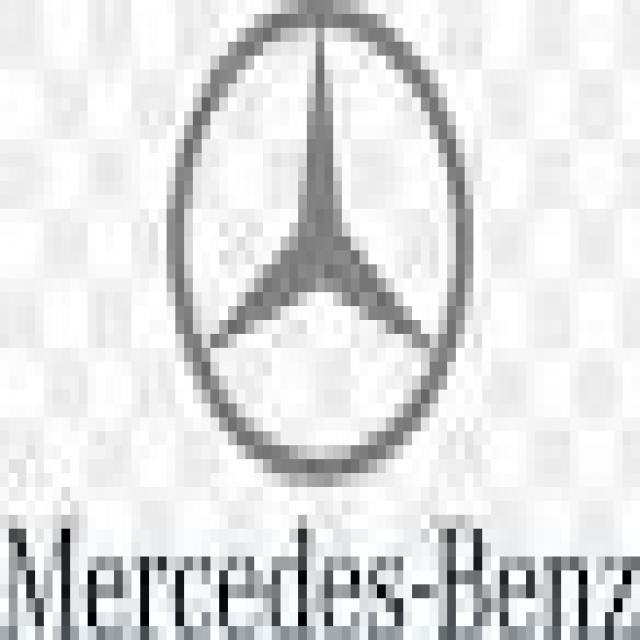mercedes: (168, 1, 483, 488)
